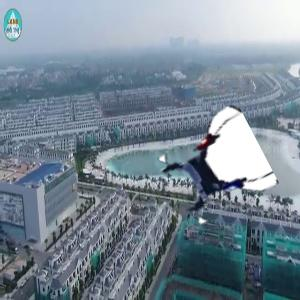drone: (162, 118, 267, 223)
